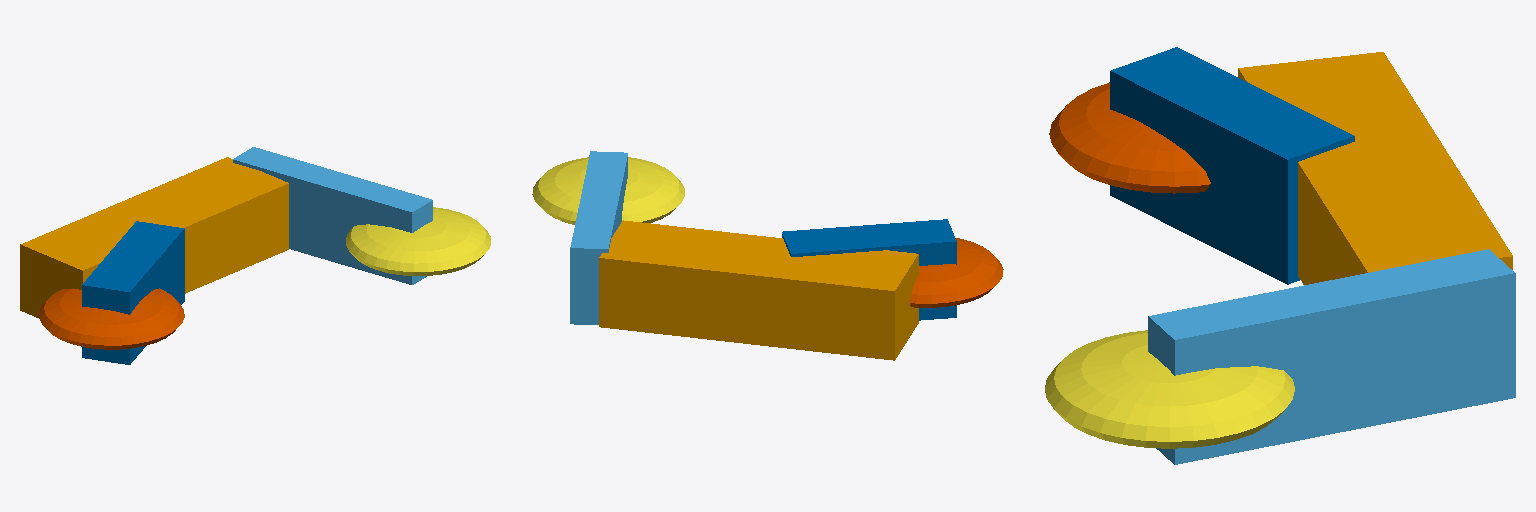
URDF robot description (sttw_source_contract):
<robot name="sttw_source_contract"><link name="chasis"><inertial><origin xyz="0 0 0" rpy="0 0 0" /><mass value="2.6709" /><inertia ixx="0.002576899237716139" iyy="0.006717399205490904" izz="0.007323301556792965" ixy="-0.0010382994717121627" ixz="-6.738700644442851e-05" iyz="-2.9357445489999094e-05" /></inertial><collision><origin xyz="0 0.01 0" rpy="0 -0 0.26200065305629355" /><geometry><box size="0.40000000000000002 0.12 0.10000000000000001" /></geometry></collision><visual><origin xyz="0 0.01 0" rpy="0 -0 0.26200065305629355" /><geometry><box size="0.40000000000000002 0.12 0.10000000000000001" /></geometry></visual></link><link name="frontfork"><inertial><origin xyz="0.015592999999999999 -0.028725000000000001 0" rpy="0 0 0" /><mass value="0.60059" /><inertia ixx="0.0006527803125101705" iyy="0.00031547968748982914" izz="0.0004482599999999998" ixy="3.1108087729306906e-06" ixz="0.0" iyz="0.0" /></inertial><collision><origin xyz="0.02 -0.059999999999999998 0" rpy="0 -0 0" /><geometry><box size="0.050000000000000003 0.29999999999999999 0.11" /></geometry></collision><visual><origin xyz="0.02 -0.059999999999999998 0" rpy="0 -0 0" /><geometry><box size="0.050000000000000003 0.29999999999999999 0.11" /></geometry></visual></link><joint name="steering_joint" type="revolute"><parent link="chasis" /><child link="frontfork" /><origin xyz="0.2172156393204609 0.020893999999999999 0" rpy="0 -0 0.43632916471688082" /><axis xyz="0 1 0" /><limit effort="1000" velocity="1000" lower="-0.8" upper="0.8" /><dynamics damping="0" friction="0" /></joint><link name="frontsuspension"><inertial><origin xyz="0 0.012836 0" rpy="0 0 0" /><mass value="0.13737" /><inertia ixx="6.8261e-05" iyy="6.1561e-05" izz="1.4167e-05" ixy="0.0" ixz="0.0" iyz="0.0" /></inertial><collision><origin xyz="0 0.02 0" rpy="0 -0 0" /><geometry><box size="0.029999999999999999 0.050000000000000003 0.10000000000000001" /></geometry></collision><visual><origin xyz="0 0.02 0" rpy="0 -0 0" /><geometry><box size="0.029999999999999999 0.050000000000000003 0.10000000000000001" /></geometry></visual></link><joint name="frontsuspension_fixed" type="fixed"><parent link="frontfork" /><child link="frontsuspension" /><origin xyz="0.02 -0.20268 0" rpy="0 -0 0" /></joint><link name="frontwheel"><inertial><origin xyz="0 0 0" rpy="0 0 0" /><mass value="0.47237" /><inertia ixx="0.0010678" iyy="0.0010677" izz="0.002032" ixy="0.0" ixz="0.0" iyz="0.0" /></inertial><collision><origin xyz="0 0 0" rpy="0 -0 0" /><geometry><mesh filename="ellipsoid_0.1_0.1_0.025.obj" /></geometry></collision><visual><origin xyz="0 0 0" rpy="0 -0 0" /><geometry><mesh filename="ellipsoid_0.1_0.1_0.025.obj" /></geometry></visual></link><joint name="frontwheel_joint" type="continuous"><parent link="frontsuspension" /><child link="frontwheel" /><origin xyz="0 0 0" rpy="0 0 -0.43632916471688082" /><axis xyz="0 0 1" /><limit effort="1000" velocity="1000" /><dynamics damping="0" friction="0" /></joint><link name="rearsuspension"><inertial><origin xyz="-0.11047 -0.091964000000000004 0" rpy="0 0 0" /><mass value="0.83342" /><inertia ixx="0.000932891239514924" iyy="0.001050602340954752" izz="0.001595099419530325" ixy="-0.0005954418866728583" ixz="4.176125784751369e-07" iyz="3.218152647424885e-07" /></inertial><collision><origin xyz="-0.080000000000000002 -0.070000000000000007 0" rpy="0 -0 0.7000001648141263" /><geometry><box size="0.22 0.070000000000000007 0.11" /></geometry></collision><visual><origin xyz="-0.080000000000000002 -0.070000000000000007 0" rpy="0 -0 0.7000001648141263" /><geometry><box size="0.22 0.070000000000000007 0.11" /></geometry></visual></link><joint name="rearsuspension_joint" type="revolute"><parent link="chasis" /><child link="rearsuspension" /><origin xyz="-0.020438000000000001 -0.034414 0" rpy="0 -0 0" /><axis xyz="0 0 1" /><limit effort="1000" velocity="1000" lower="-0.05" upper="0.05" /><dynamics damping="0" friction="0" /></joint><link name="rearwheel"><inertial><origin xyz="0 0 0" rpy="0 0 0" /><mass value="0.71956" /><inertia ixx="0.0011423999999999996" iyy="0.0011425999999999995" izz="0.002173799999999999" ixy="0.0" ixz="0.0" iyz="0.0" /></inertial><collision><origin xyz="0 0 0" rpy="0 -0 0" /><geometry><mesh filename="ellipsoid_0.1_0.1_0.025.obj" /></geometry></collision><visual><origin xyz="0 0 0" rpy="0 -0 0" /><geometry><mesh filename="ellipsoid_0.1_0.1_0.025.obj" /></geometry></visual></link><joint name="rearwheel_joint" type="continuous"><parent link="rearsuspension" /><child link="rearwheel" /><origin xyz="-0.14050000000000001 -0.11609 0" rpy="0 -0 0" /><axis xyz="0 0 1" /><limit effort="1000" velocity="1000" /><dynamics damping="0" friction="0" /></joint></robot>

--- Render facts (derived) ---
The picture shows the robot from 3 angles, left to right: view 1: azimuth 30°, elevation 25°; view 2: azimuth 150°, elevation 25°; view 3: azimuth 270°, elevation 25°; orthographic projection.
Robot: sttw_source_contract — 6 links, 5 joints (2 revolute, 2 continuous, 1 fixed); root link chasis; default pose: all joints at 0.
Visible links, largest first — view 1: chasis, frontfork, rearsuspension, frontwheel, rearwheel; view 2: chasis, frontfork, rearsuspension, frontwheel, rearwheel; view 3: frontfork, chasis, rearsuspension, frontwheel, rearwheel.
Link boxes in pixels (x1=…): chasis: x1=20, y1=157, x2=288, y2=317; frontfork: x1=233, y1=147, x2=432, y2=284; rearsuspension: x1=82, y1=221, x2=184, y2=364; frontwheel: x1=346, y1=207, x2=490, y2=275; rearwheel: x1=39, y1=288, x2=184, y2=349; chasis: x1=599, y1=220, x2=918, y2=360; frontfork: x1=570, y1=151, x2=627, y2=324; rearsuspension: x1=782, y1=219, x2=956, y2=320; frontwheel: x1=532, y1=157, x2=684, y2=224; rearwheel: x1=910, y1=238, x2=1003, y2=307; frontfork: x1=1148, y1=249, x2=1515, y2=464; chasis: x1=1238, y1=52, x2=1512, y2=284; rearsuspension: x1=1110, y1=47, x2=1354, y2=284; frontwheel: x1=1045, y1=330, x2=1294, y2=448; rearwheel: x1=1049, y1=82, x2=1210, y2=193.
Bounding box of the posed robot: 0.6819 × 0.3758 × 0.11 m (x, y, z).
Meshes: 1 distinct files referenced, 2 mesh visuals loaded (1 OBJ).
